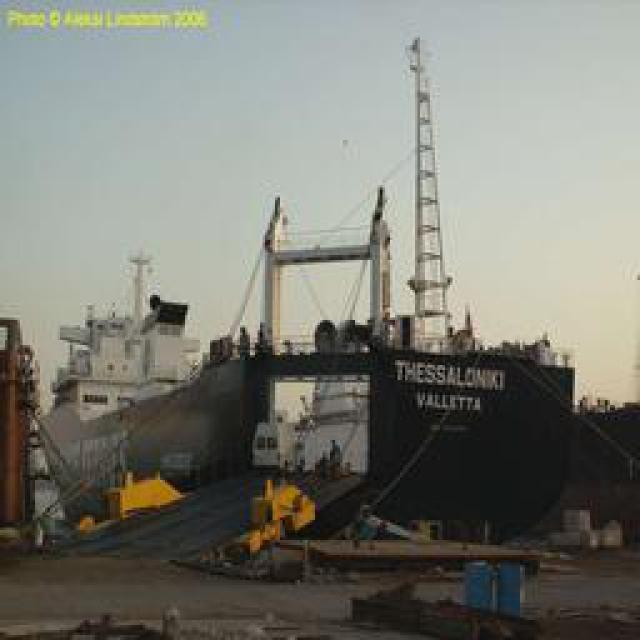Ship: (38, 40, 593, 567)
